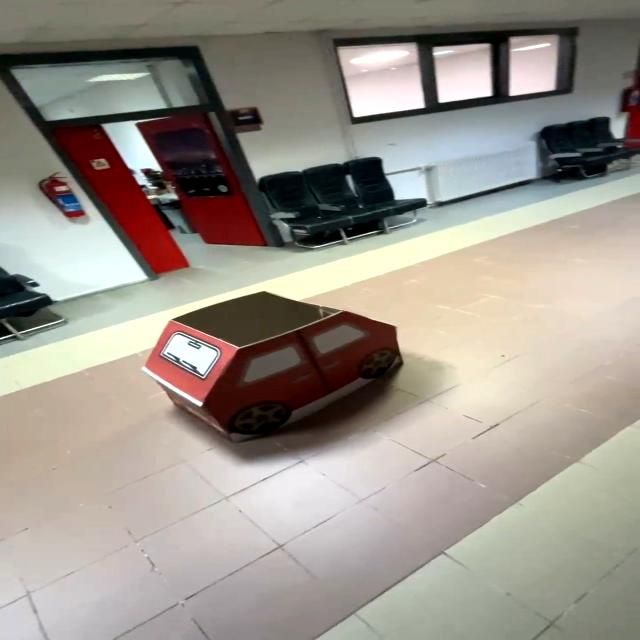red_car: (109, 278, 429, 451)
